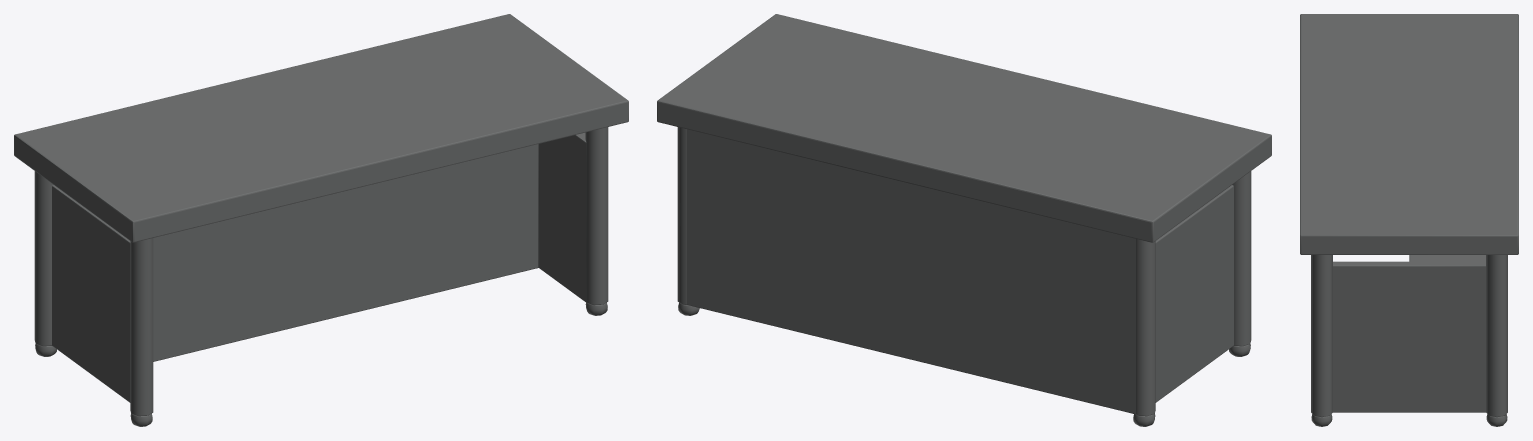
Rendered from DualWorkstationDesk.fbx.
The picture shows the model from 3 angles, left to right: view 1: azimuth 30°, elevation 25°; view 2: azimuth 150°, elevation 25°; view 3: azimuth 270°, elevation 25°; orthographic projection. The views are drawn at different scales.
Parts seen in each view (by area): view 1: DualWorkstationDesk; view 2: DualWorkstationDesk; view 3: DualWorkstationDesk.
Part boxes in pixels (x1=…): DualWorkstationDesk: x1=14, y1=14, x2=628, y2=426; DualWorkstationDesk: x1=657, y1=14, x2=1271, y2=426; DualWorkstationDesk: x1=1300, y1=14, x2=1518, y2=426.
Size of the model in its own units: 120 by 50 by 50.
1 material, 1 textured.
